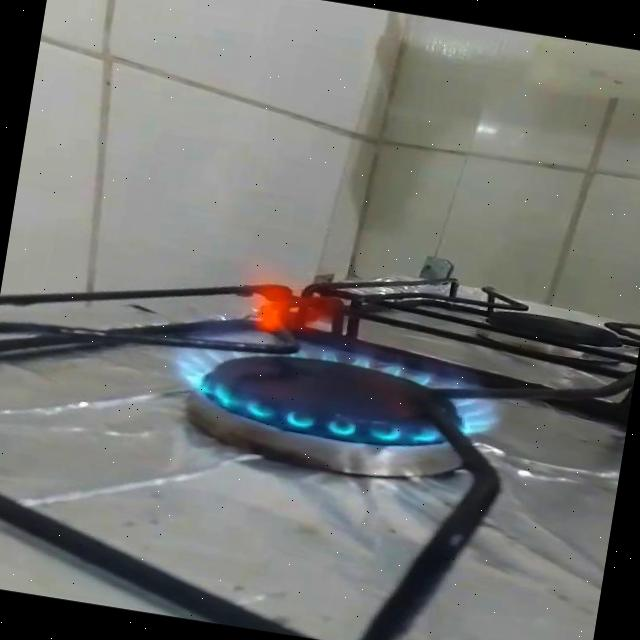fire: (158, 245, 528, 464)
